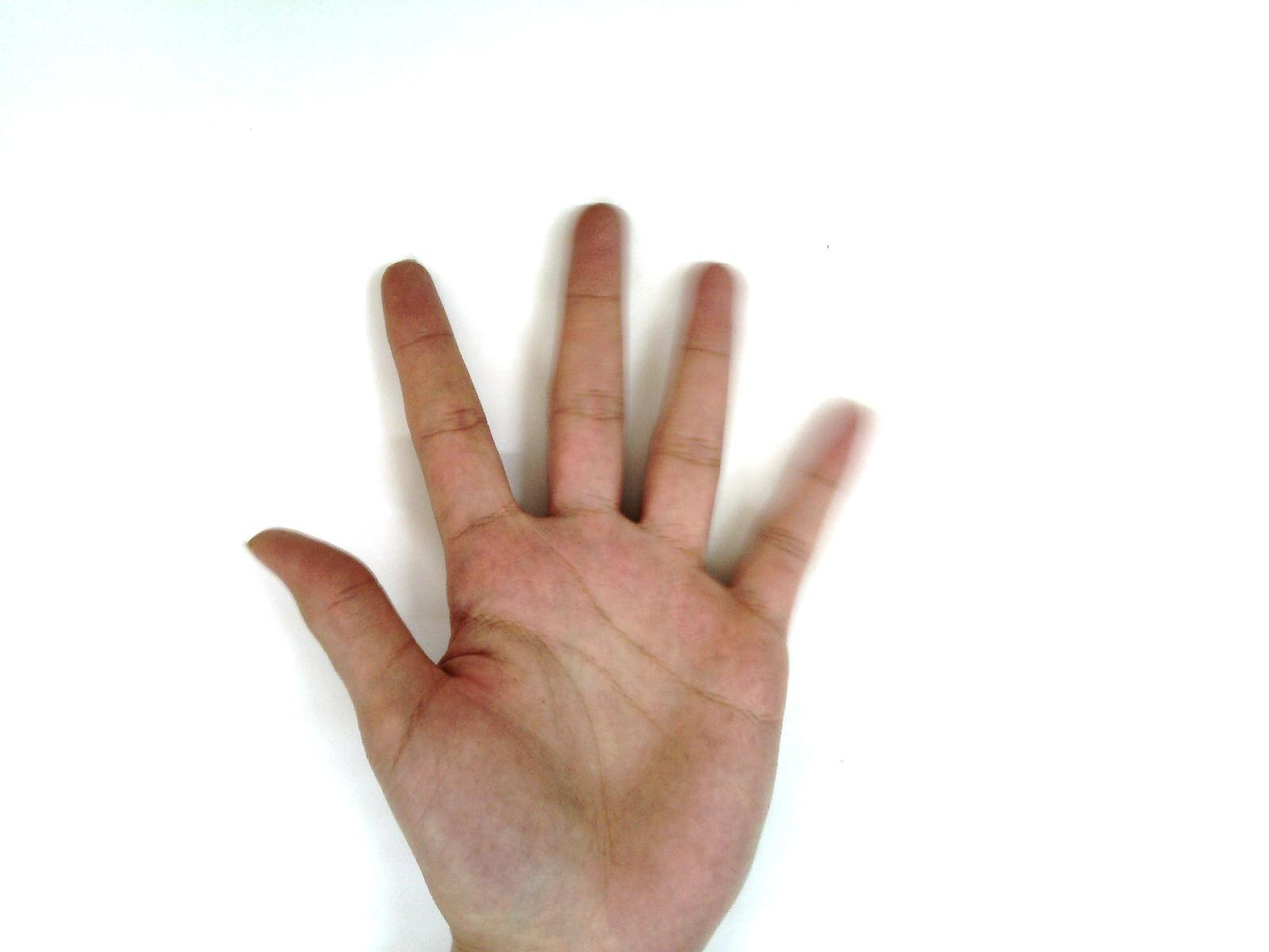open_palm: (244, 202, 880, 951)
